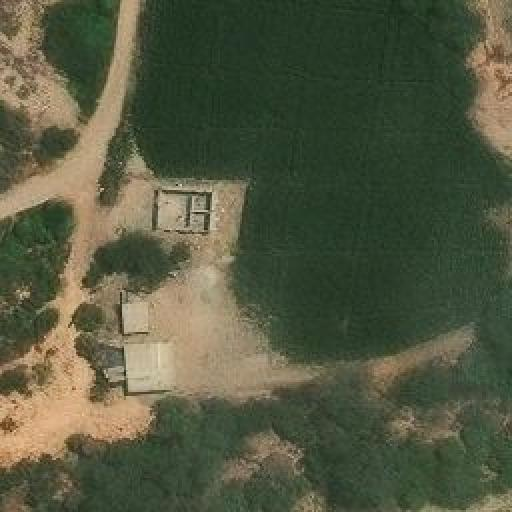manzanas: (119, 295, 181, 395), (144, 184, 223, 236)
